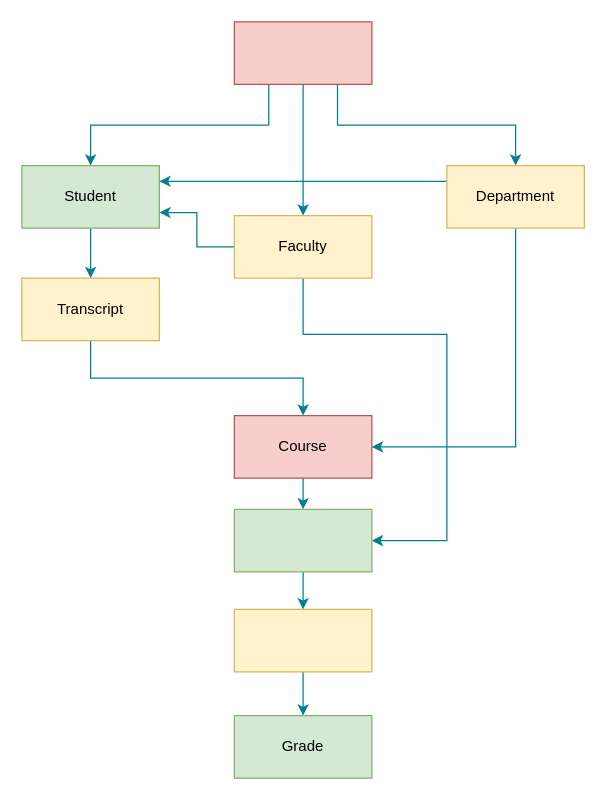
This 606x800 diagram has some shape labels left out. Here are the shapes that lost their labels. From the top down, the box of each, then its label:
(233, 21, 372, 84): Interpreter
(233, 508, 372, 572): Semester
(233, 608, 372, 672): Module
